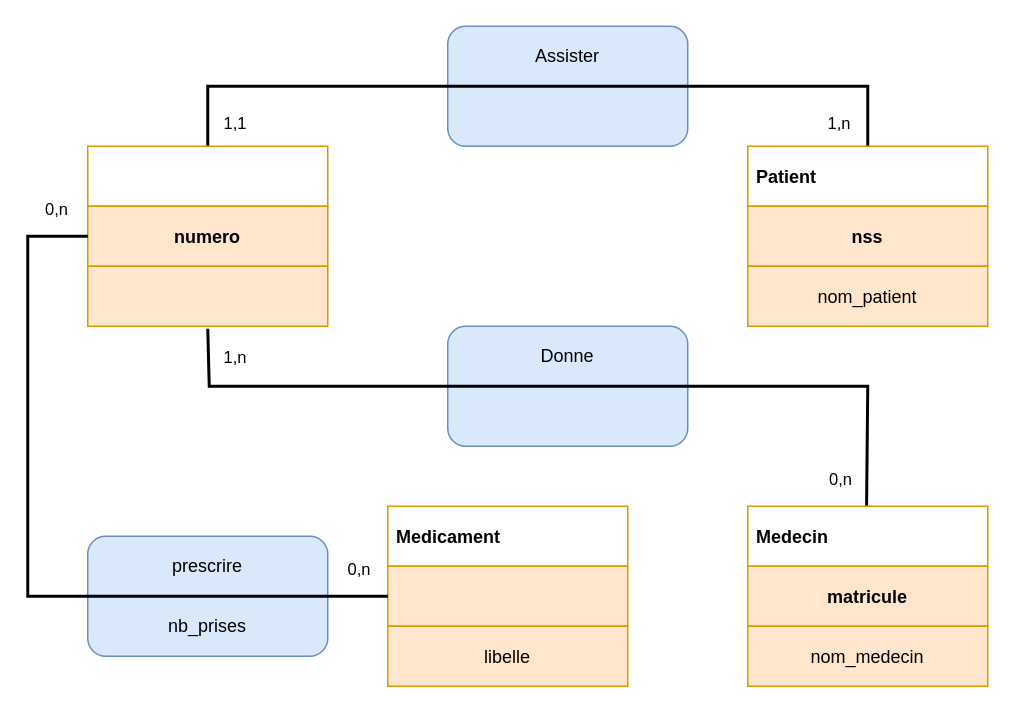
This 1014x713 diagram has some shape labels left out. The box of each missing label's shape, as (x1, y1, x2, y2) in pixels:
code: (386, 565, 628, 626)
Consultation: (86, 145, 328, 206)
date_consult: (86, 265, 328, 326)
